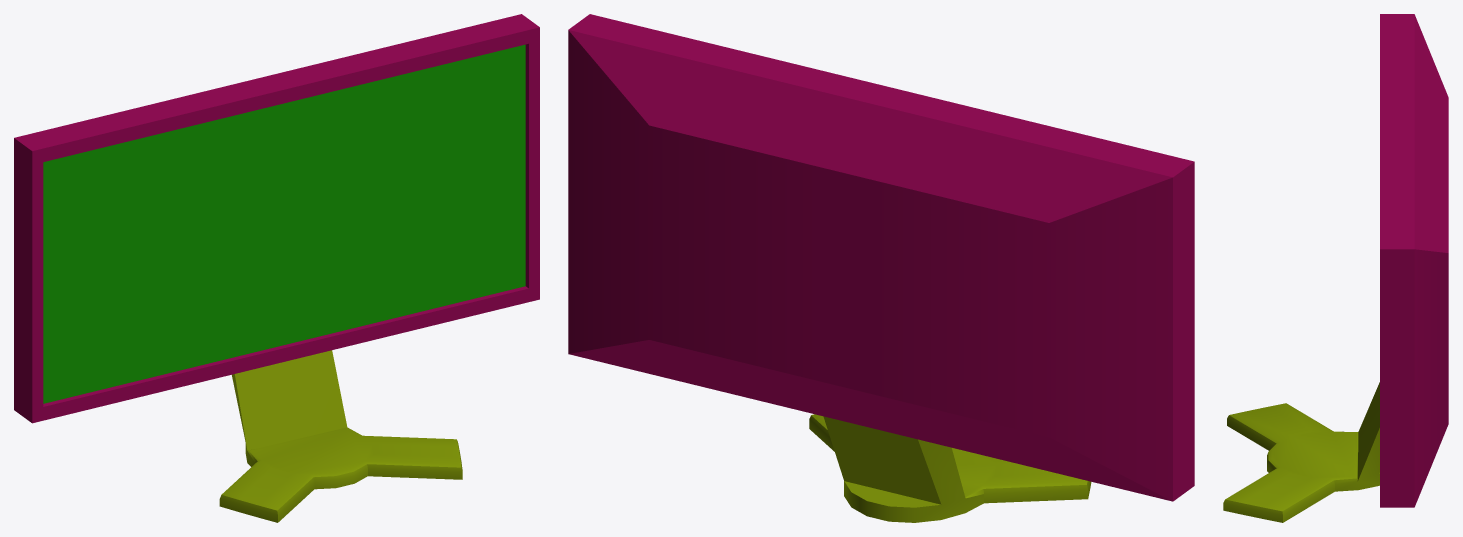
File: N_Screen.fbx
3 renders of one model, left to right at view 1: azimuth 30°, elevation 25°; view 2: azimuth 150°, elevation 25°; view 3: azimuth 270°, elevation 25°, orthographic. The views are drawn at different scales.
Parts seen in each view (by area): view 1: Ecran; view 2: Ecran; view 3: Ecran.
Part boxes in pixels (x1,y1,x2,y2): Ecran: [14, 14, 539, 522]; Ecran: [568, 14, 1194, 522]; Ecran: [1223, 14, 1448, 522].
Size of the model in its own units: 57.27 by 38.06 by 23.19.
